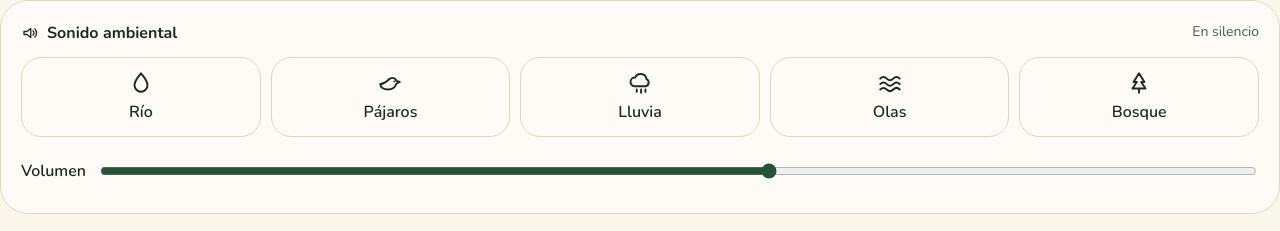
Test case: SelectorSonido › pulsar otra vez el sonido activo vuelve al silencio
Click the button "Río". click: {"x": 141, "y": 97}
box: [21,57,261,137]
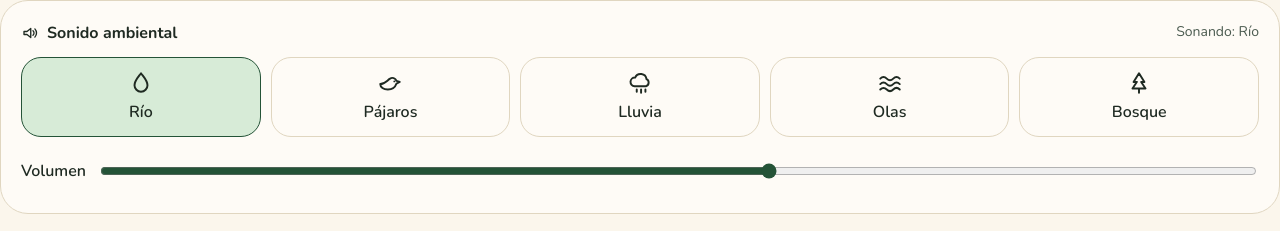
Click the button "Río". click: {"x": 141, "y": 97}
box: [21,57,261,137]
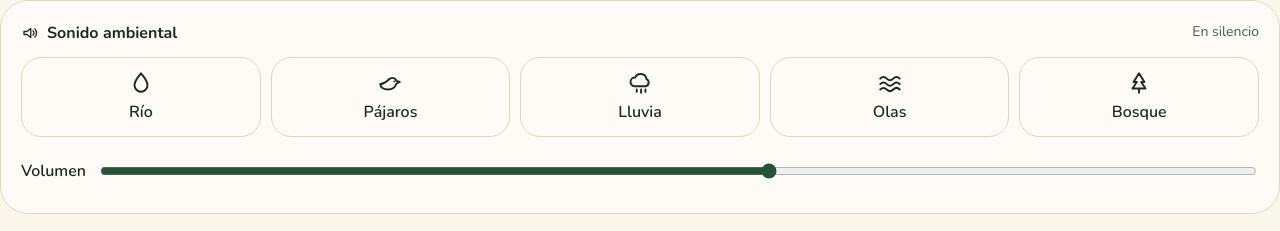
Expected: the text "En silencio" is shown, [1192,21,1259,42]
